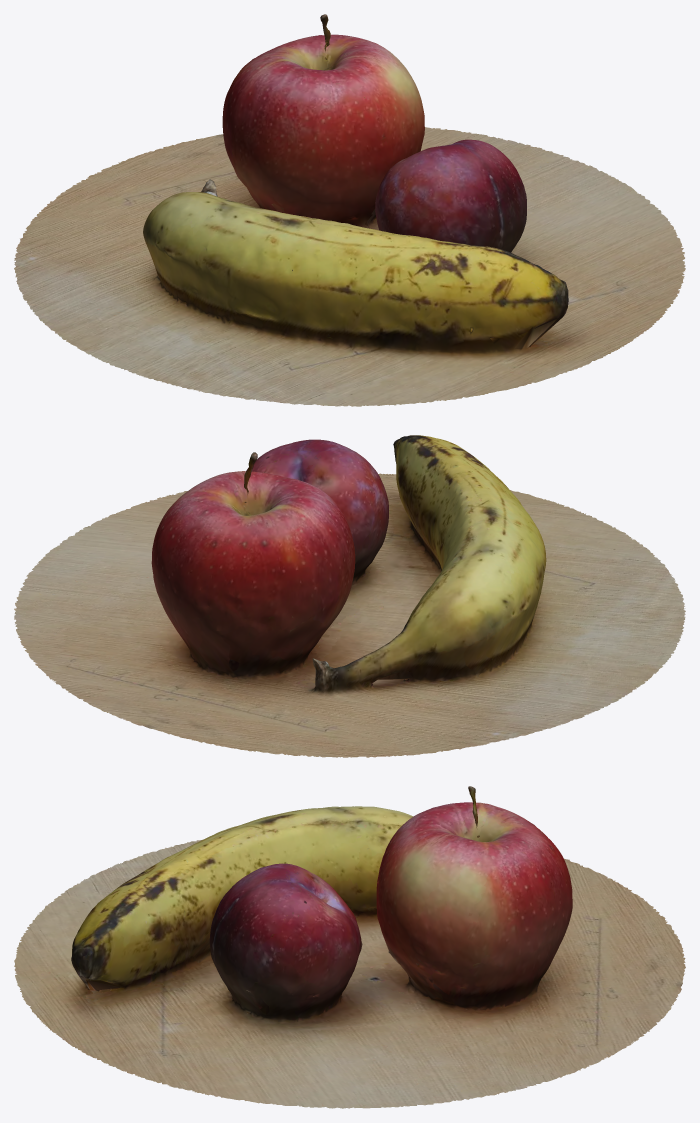
File: plum-1.glb
3 views of the same model, one above another, from view 1: azimuth 30°, elevation 25°; view 2: azimuth 150°, elevation 25°; view 3: azimuth 270°, elevation 25° (orthographic).
Parts seen in each view (by area): view 1: Stereo textured mesh_Material0_0; view 2: Stereo textured mesh_Material0_0; view 3: Stereo textured mesh_Material0_0.
Boxes of the visible parts, <box> form: Stereo textured mesh_Material0_0: <box>14,14,685,406</box>; Stereo textured mesh_Material0_0: <box>14,435,685,757</box>; Stereo textured mesh_Material0_0: <box>14,786,685,1108</box>.
Bounding box in the file's own units: 1000 × 327 × 1000.
Materials: 1 (1 with a texture image).
